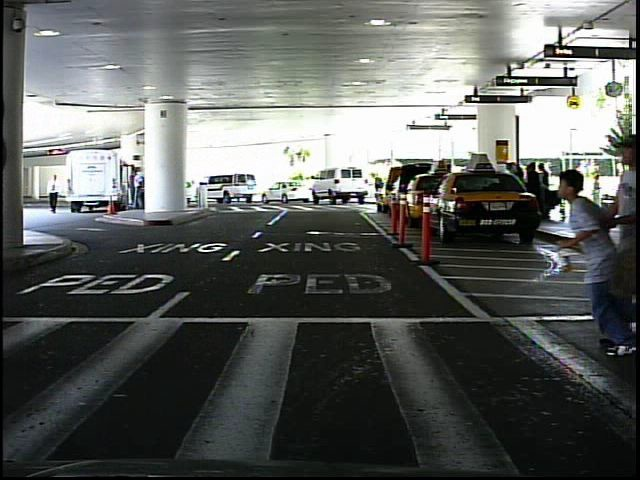person: (561, 162, 624, 365), (47, 173, 64, 217), (372, 171, 386, 201), (598, 172, 599, 218)
